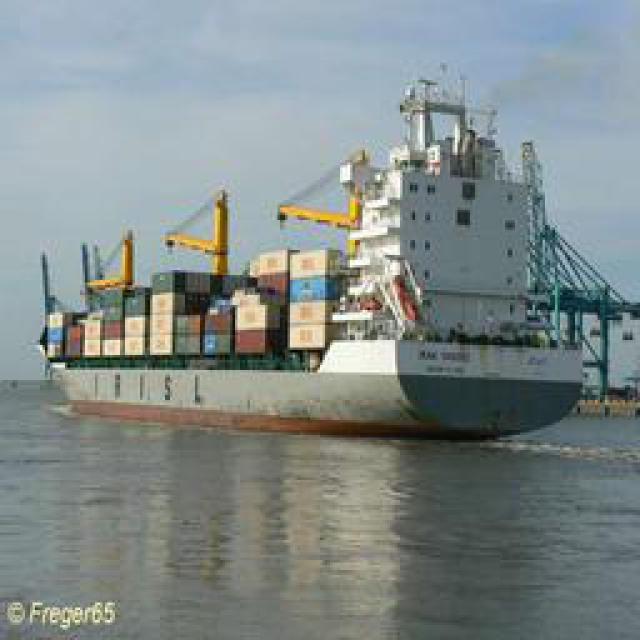Ship: (42, 54, 602, 439)
